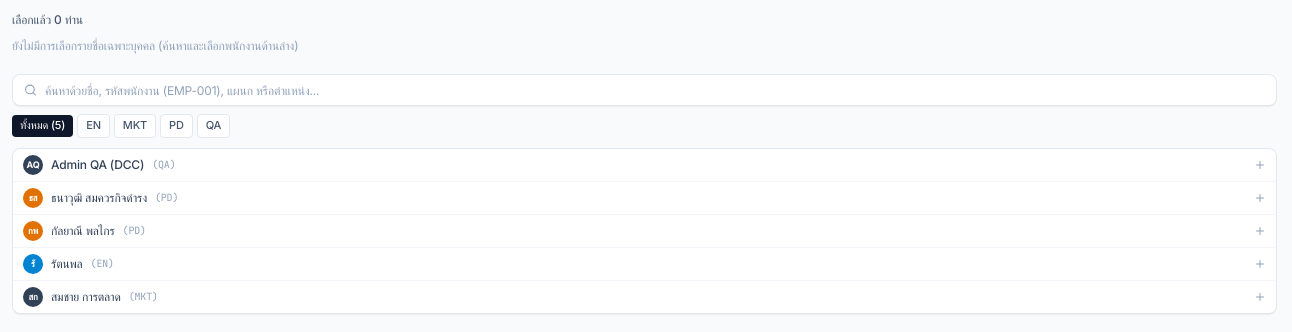
Test: AuthorizedUsersSelector Component › filters users by department quick filter chips
// Click on PD chip
What coordinates should you click on to do the following:
click the button "PD"
I would click on:
 (176, 126)
Its box is x1=160 y1=114 x2=193 y2=138.
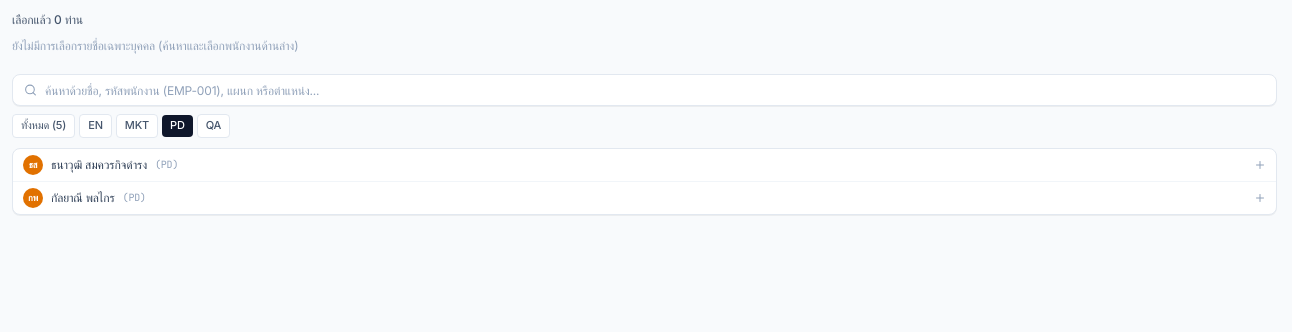
Expected: the text "ธนาวุฒิ สมควรกิจดำรง" is shown, x1=51 y1=157 x2=147 y2=173
Expected: the button "รัตนพล" is gone
Expected: the button "สมชาย การตลาด" is gone
